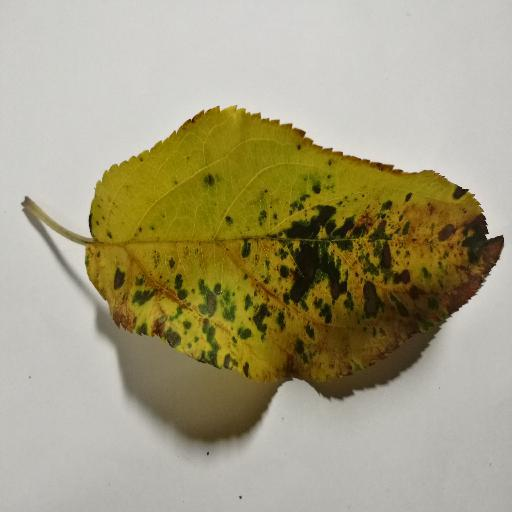Brown_Spot: (93, 193, 490, 422)
